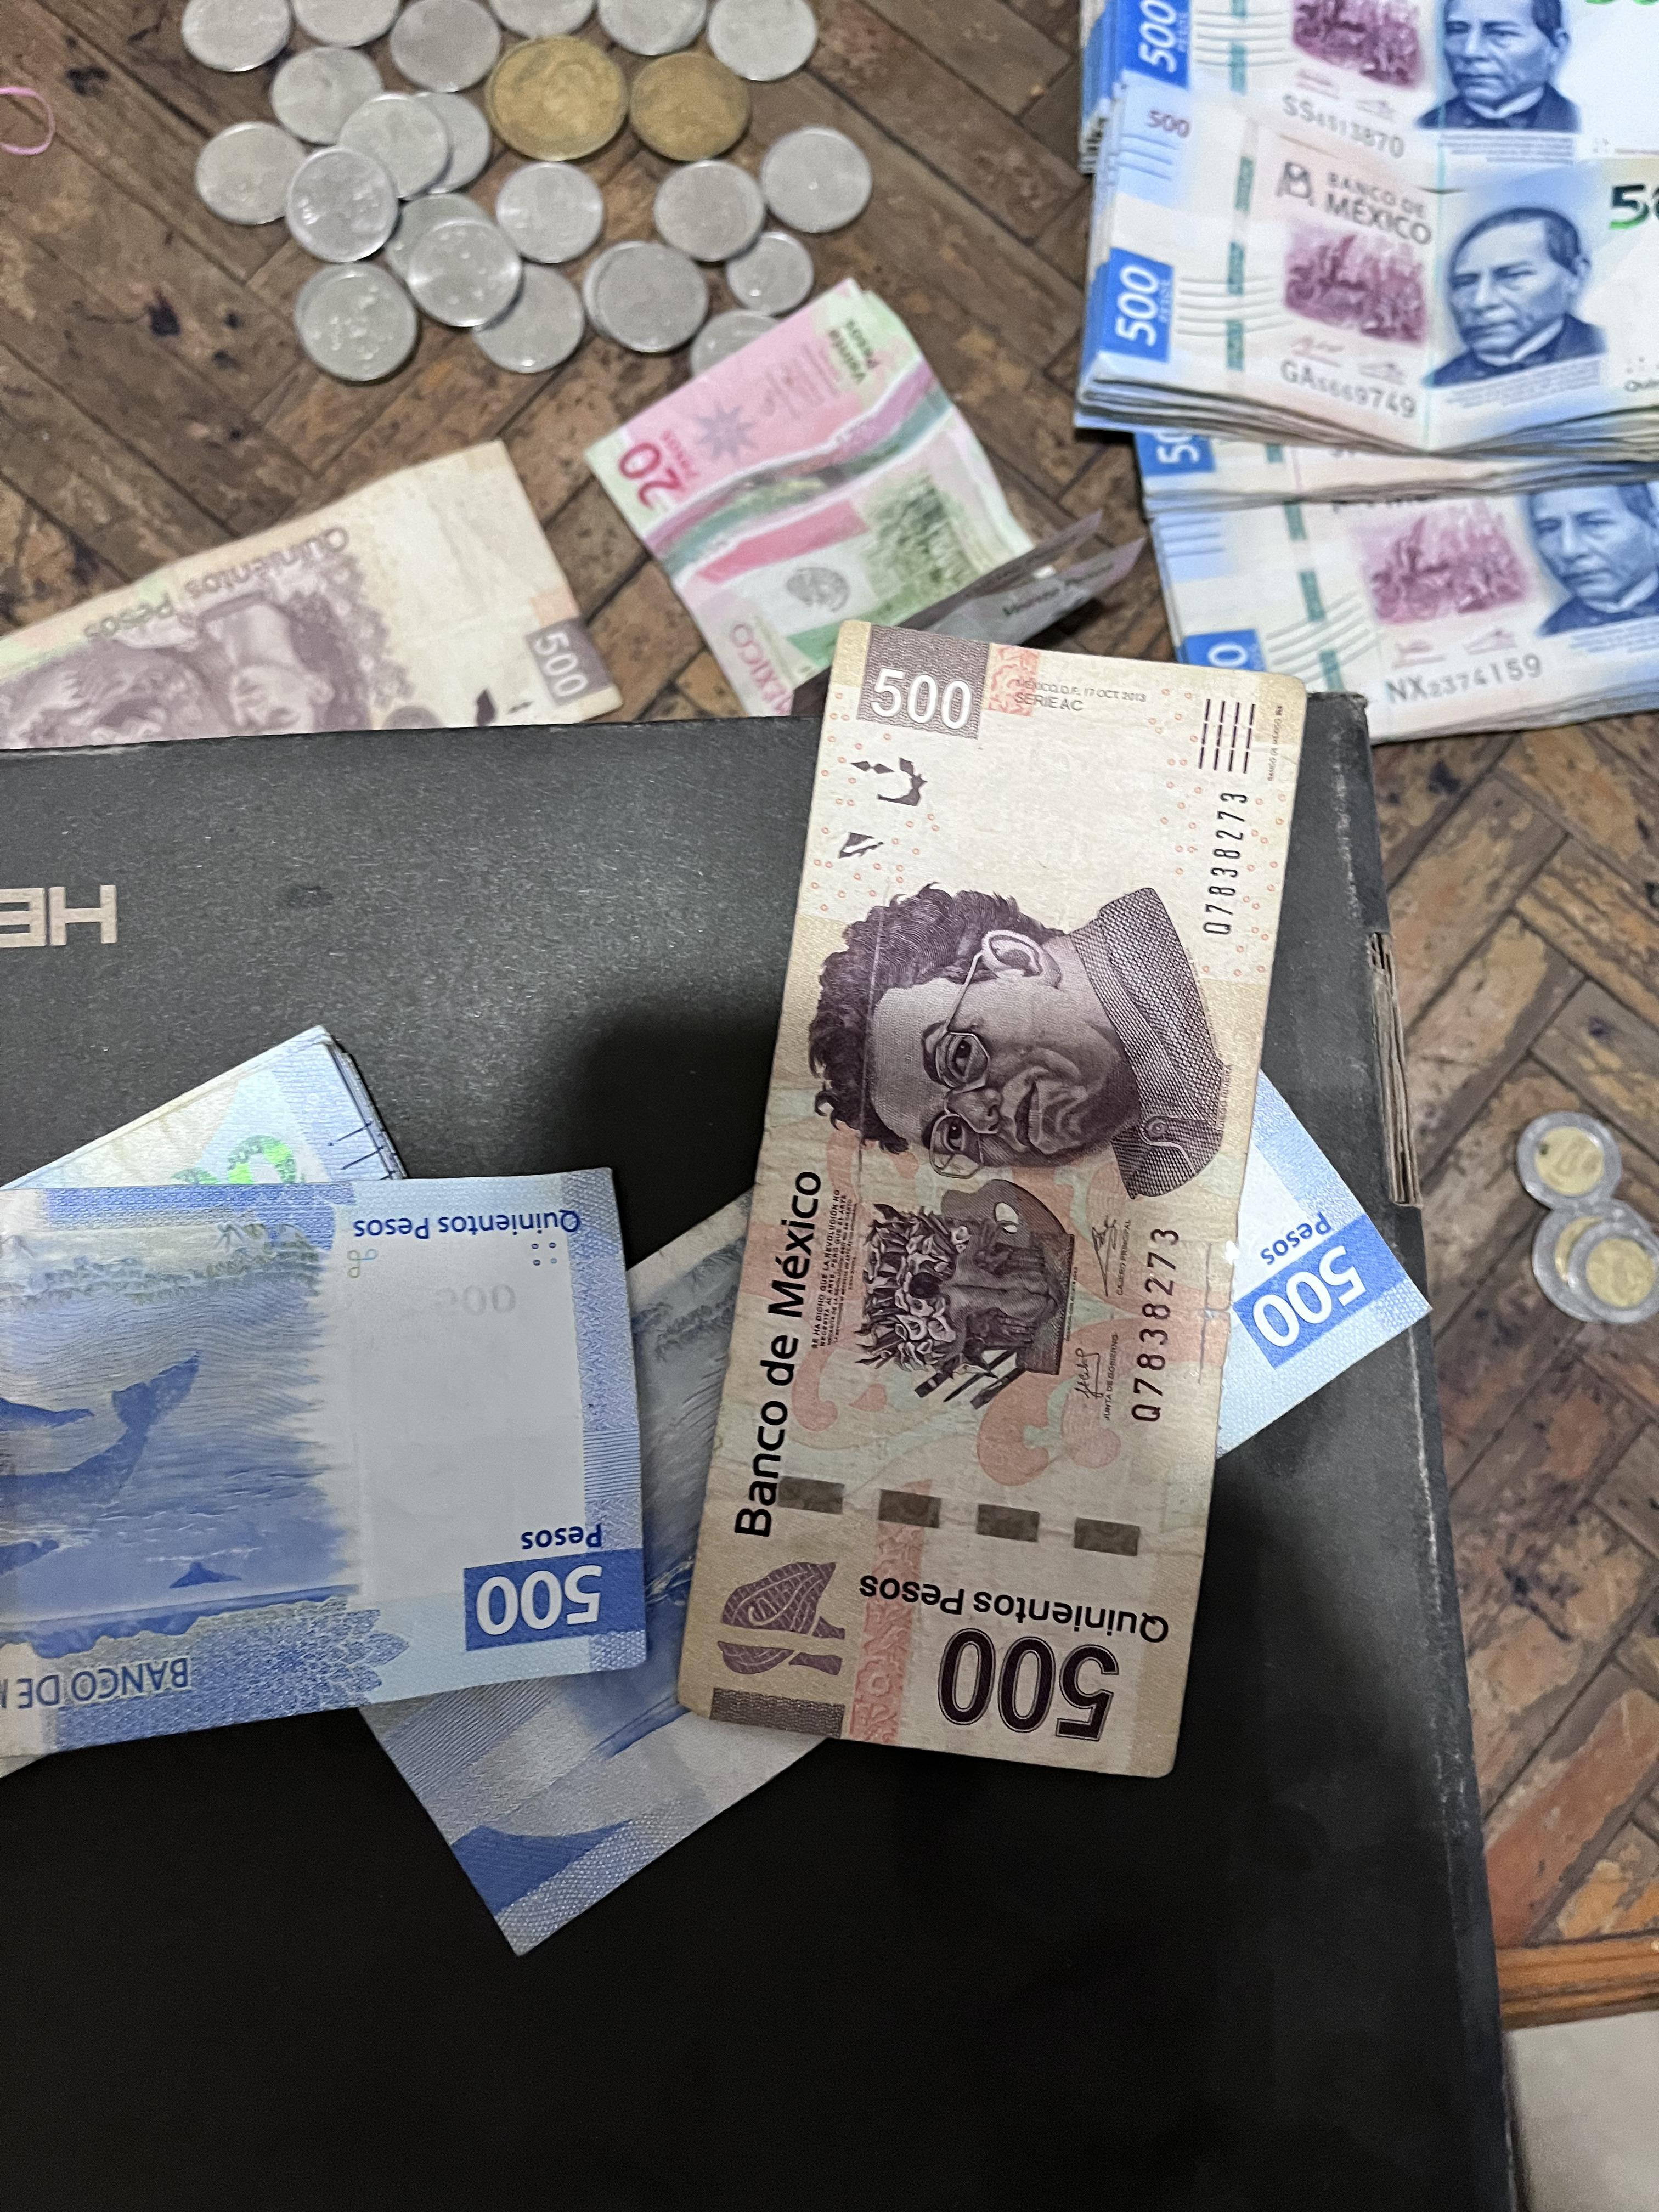20: (573, 291, 1091, 698)
500: (716, 540, 1291, 1858), (5, 420, 667, 770)
500 nuevo: (0, 1169, 655, 1763), (1072, 138, 1659, 439), (1127, 463, 1659, 738), (1056, 0, 1659, 143)
